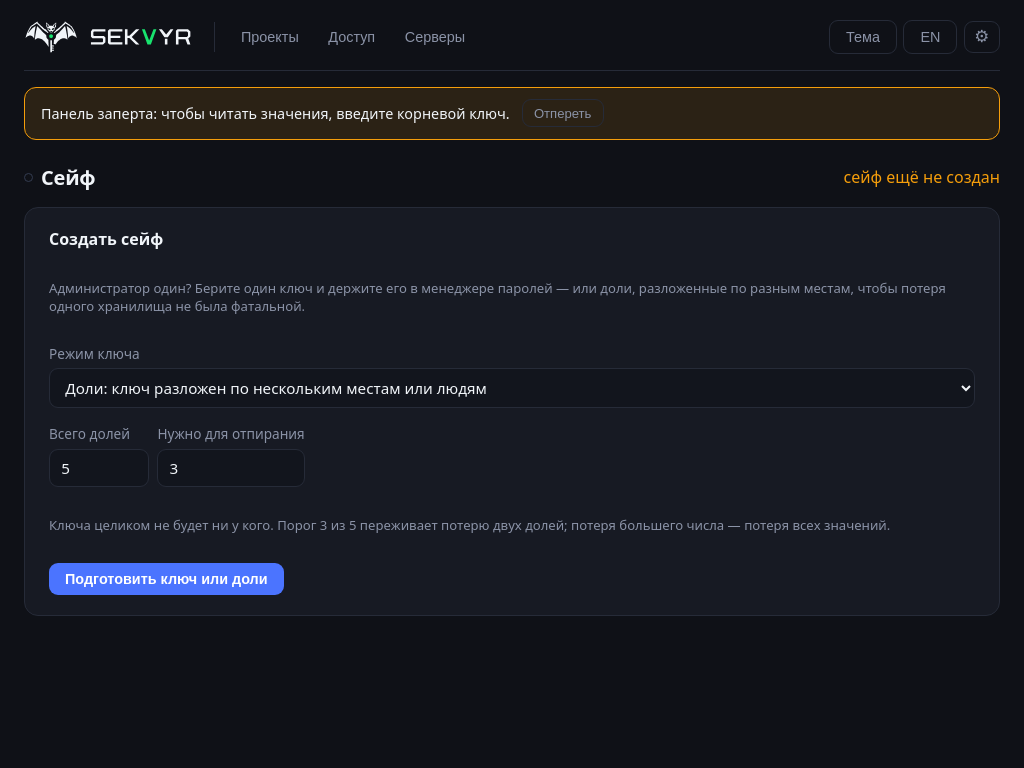
Test: двухшаговое создание сейфа › сохраняет комплект до записи и повторяет тот же запрос (shares)
The width and height of the screenshot is (1024, 768).
Step 1. Click the button "Подготовить ключ или доли" → x=166, y=579, box [49, 563, 284, 595]
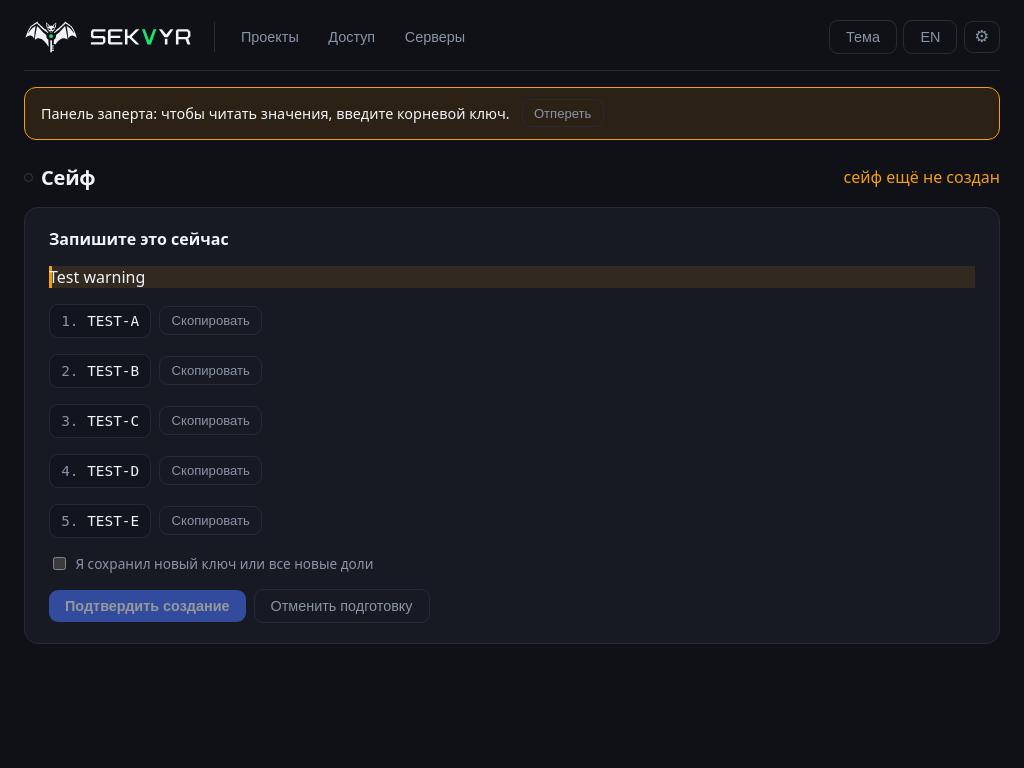
expect the text "TEST-A" is shown: met, box [87, 313, 139, 329]
expect the button "Подтвердить создание" is disabled: met, box [49, 590, 246, 622]
Step 2. Click the checkbox labelled "Я сохранил новый ключ или все новые доли" → x=60, y=563, box [53, 557, 66, 570]
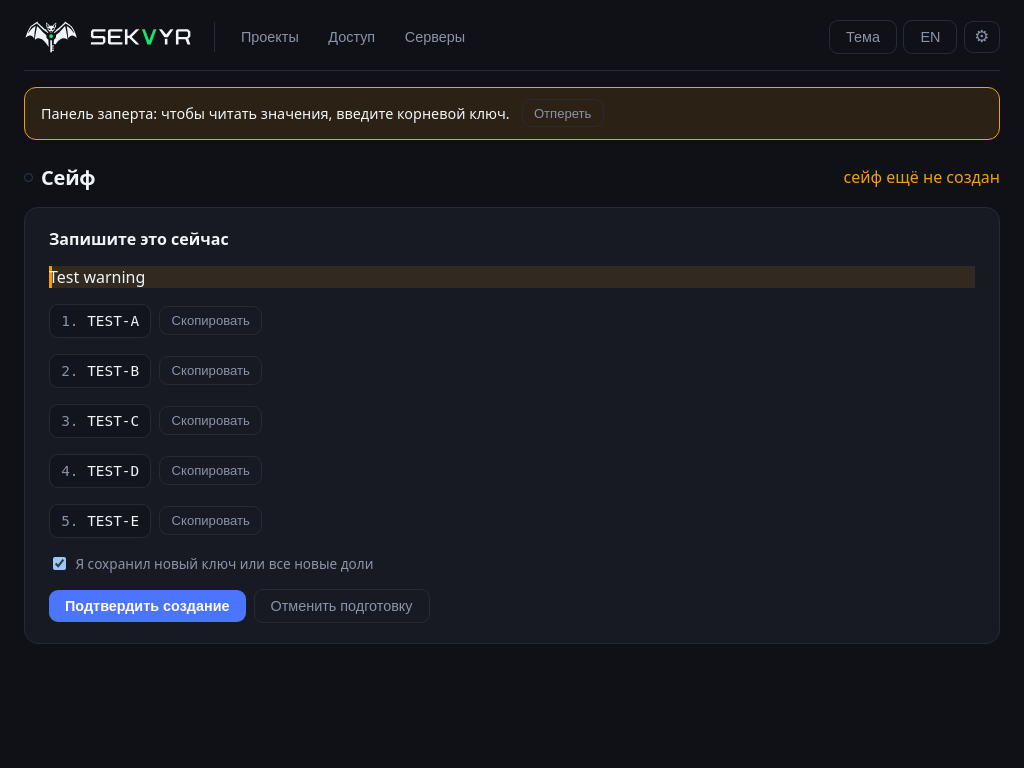
Step 3. Click the button "Подтвердить создание" → x=147, y=606, box [49, 590, 246, 622]
(page scrolled)
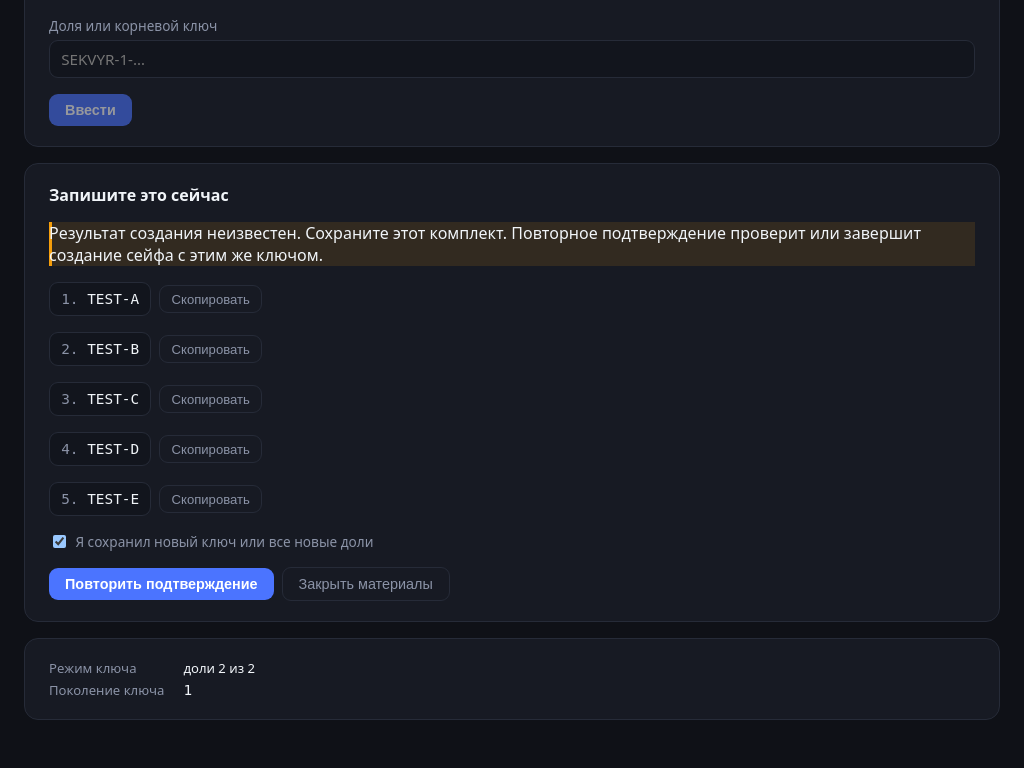
expect the button "Подготовить ключ или доли" is not shown: met
expect the text "TEST-A" is shown: met, box [87, 291, 139, 307]
expect the text "Результат создания неизвестен" is shown: met, box [49, 222, 921, 266]
Step 4. Click the button "Повторить подтверждение" → x=161, y=584, box [49, 568, 274, 600]
(page scrolled)
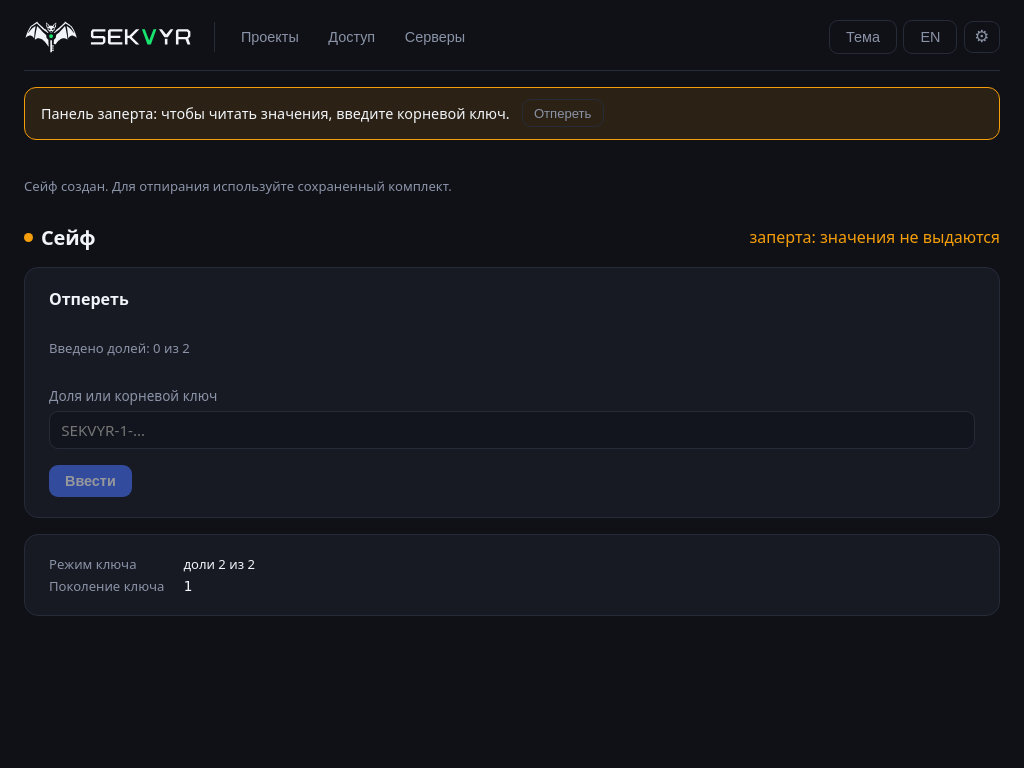
expect the text "заперта: значения не выдаются" is shown: met, box [749, 226, 1000, 248]
expect the text "Сейф создан. Для отпирания используйте сохраненный комплект." is shown: met, box [24, 177, 452, 195]
expect the text "TEST-A" is gone: met
